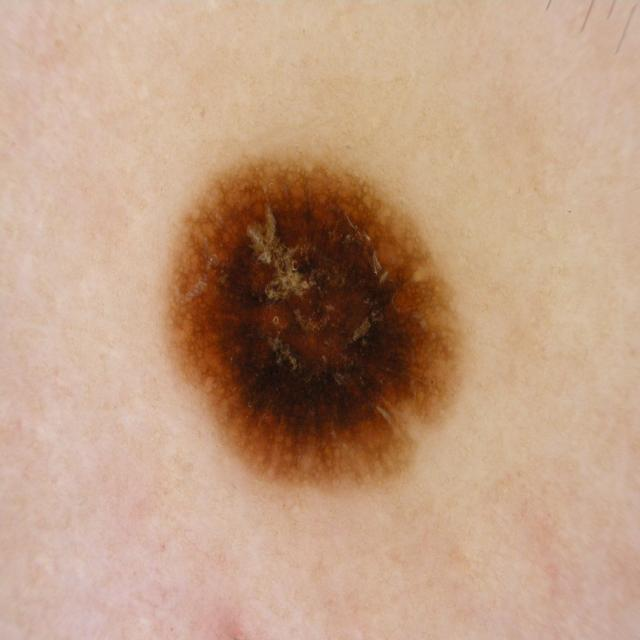Benign: (158, 152, 472, 506)
